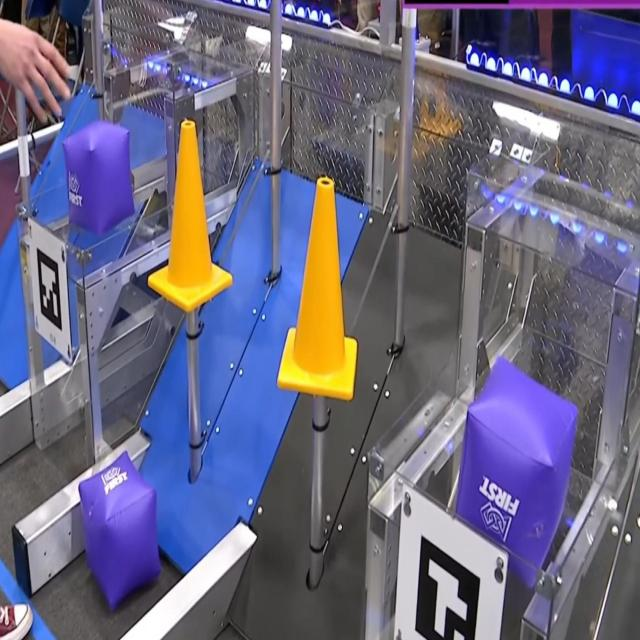frc_cone: (279, 173, 357, 401), (149, 120, 234, 314)
frc_cube: (452, 351, 577, 591), (76, 448, 160, 608), (64, 122, 135, 234)
